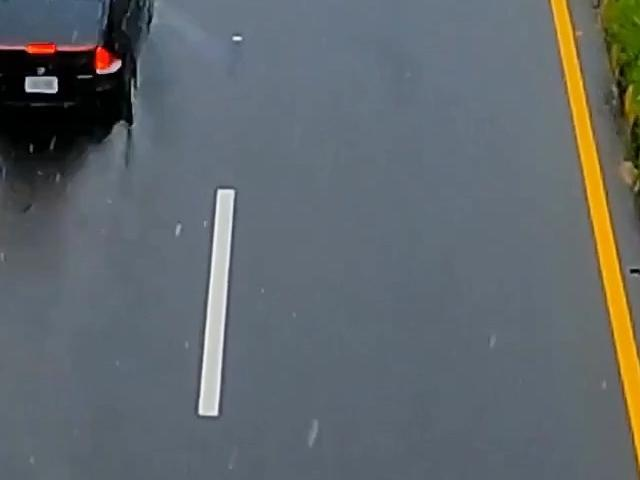car: (0, 0, 185, 166)
